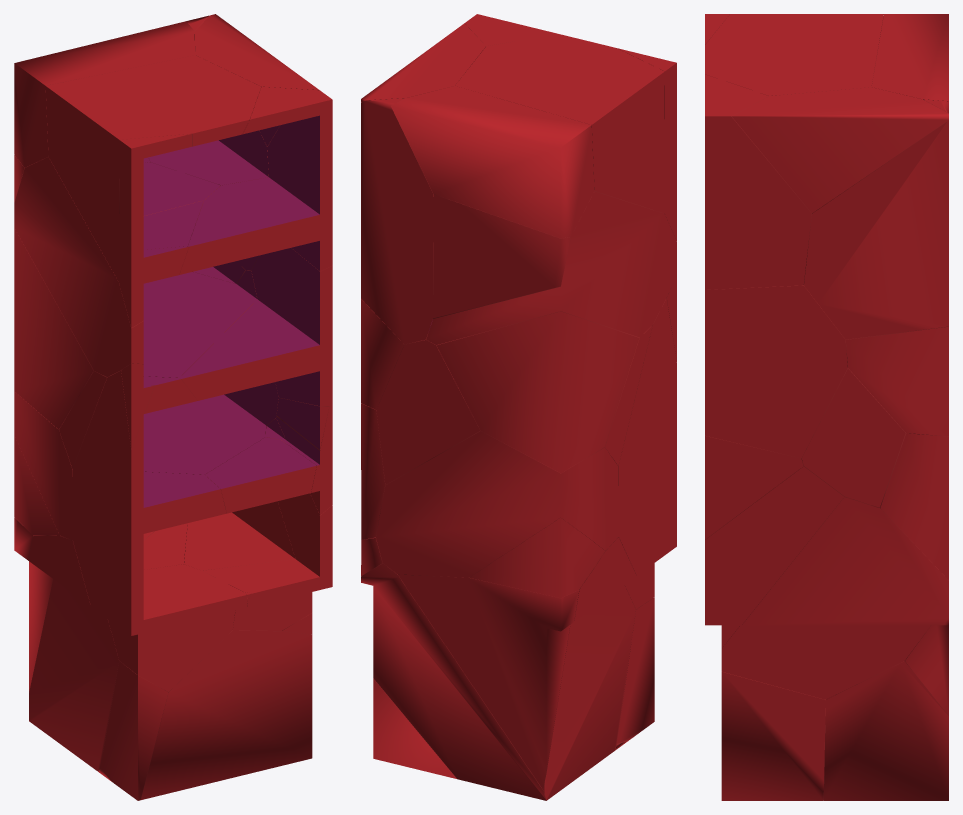
The model's file is Shelf_DEST.fbx.
3 renders of one model, left to right at view 1: azimuth 30°, elevation 25°; view 2: azimuth 150°, elevation 25°; view 3: azimuth 270°, elevation 25°, orthographic. The views are drawn at different scales.
Parts seen in each view (by area): view 1: polySurface117_cell.025, polySurface117_cell.001, polySurface117_cell.005, polySurface117_cell.010, polySurface117_cell.023, polySurface117_cell.002, polySurface117_cell.011, polySurface117_cell.014, polySurface117_cell.021, polySurface117_cell.019, polySurface117_cell.024, polySurface117_cell.020 (+13 smaller); view 2: polySurface117_cell.029, polySurface117_cell.019, polySurface117_cell.024, polySurface117_cell.001, polySurface117_cell.026, polySurface117_cell.015, polySurface117_cell.002, polySurface117_cell.003, polySurface117_cell.014, polySurface117_cell.025, polySurface117_cell.022, polySurface117_cell.010 (+9 smaller); view 3: polySurface117_cell.009, polySurface117_cell.003, polySurface117_cell.011, polySurface117_cell.023, polySurface117_cell.016, polySurface117_cell.007, polySurface117_cell.001, polySurface117_cell.005, polySurface117_cell.021, polySurface117_cell.010, polySurface117_cell.027, polySurface117_cell (+3 smaller).
Boxes of the visible parts, box(x1,y1,x2,y2) form: polySurface117_cell.025: box(72, 371, 247, 691); polySurface117_cell.001: box(45, 55, 260, 281); polySurface117_cell.005: box(98, 630, 312, 799); polySurface117_cell.010: box(59, 270, 278, 474); polySurface117_cell.023: box(179, 86, 332, 274); polySurface117_cell.002: box(14, 157, 220, 377); polySurface117_cell.011: box(180, 248, 332, 406); polySurface117_cell.014: box(28, 535, 119, 771); polySurface117_cell.021: box(202, 418, 332, 630); polySurface117_cell.019: box(14, 228, 93, 429); polySurface117_cell.024: box(14, 21, 195, 167); polySurface117_cell.020: box(119, 134, 191, 327); polySurface117_cell.029: box(376, 431, 618, 577); polySurface117_cell.019: box(436, 311, 639, 473); polySurface117_cell.024: box(391, 86, 594, 238); polySurface117_cell.001: box(455, 34, 664, 213); polySurface117_cell.026: box(398, 574, 579, 789); polySurface117_cell.015: box(361, 563, 546, 800); polySurface117_cell.002: box(426, 191, 676, 345); polySurface117_cell.003: box(361, 98, 433, 344); polySurface117_cell.014: box(543, 537, 636, 800); polySurface117_cell.025: box(618, 298, 676, 609); polySurface117_cell.022: box(433, 194, 570, 318); polySurface117_cell.010: box(376, 321, 652, 484); polySurface117_cell.009: box(721, 497, 948, 699); polySurface117_cell.003: box(804, 99, 948, 339); polySurface117_cell.011: box(705, 285, 847, 458); polySurface117_cell.023: box(705, 74, 811, 289); polySurface117_cell.016: box(732, 87, 948, 213); polySurface117_cell.007: box(824, 661, 948, 800); polySurface117_cell.001: box(705, 14, 883, 95); polySurface117_cell.005: box(721, 672, 825, 800); polySurface117_cell.021: box(705, 466, 843, 648); polySurface117_cell.010: box(801, 368, 906, 508); polySurface117_cell.027: box(846, 326, 948, 436); polySurface117_cell: box(880, 433, 948, 579).
Size of the model in its own units: 2.43 by 7.65 by 2.45.
